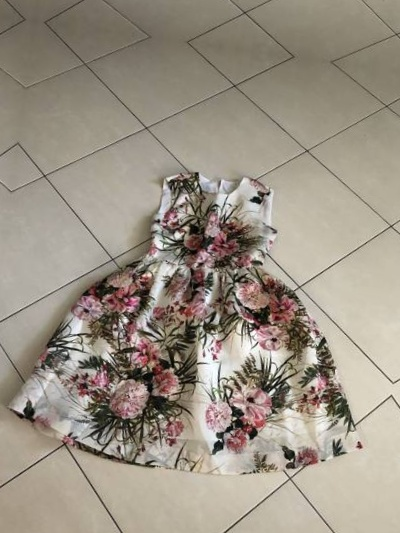Dress: (12, 131, 400, 504), (391, 183, 400, 533)
